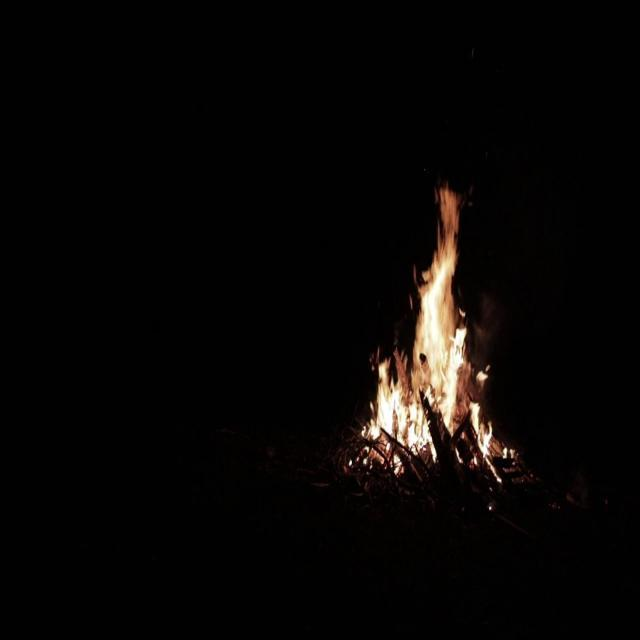Fire: (358, 177, 508, 479)
